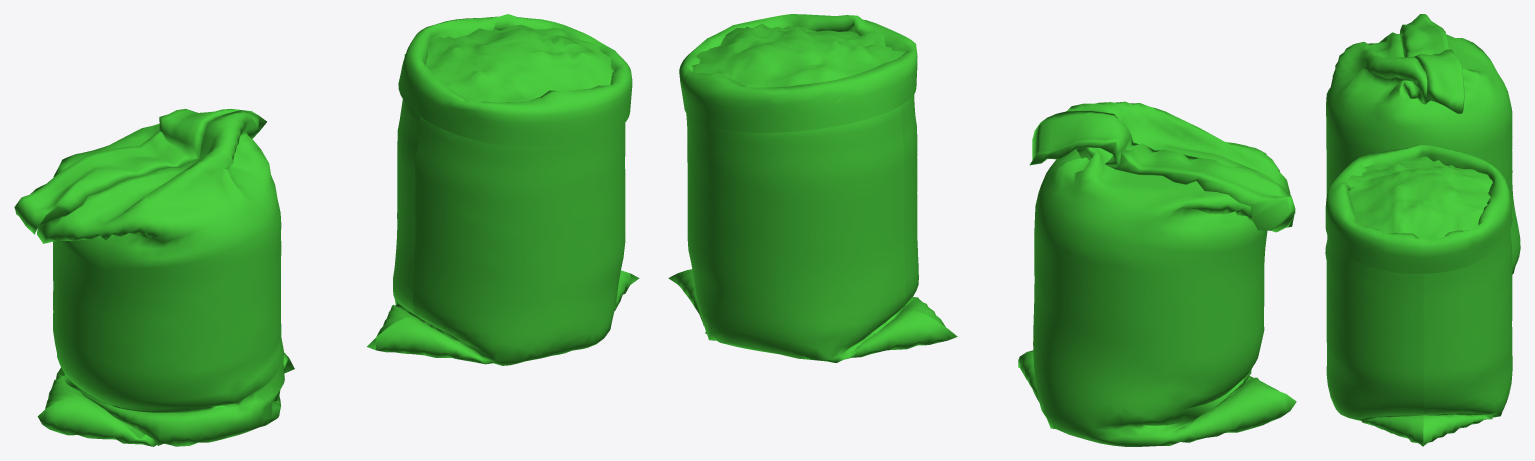
The model's file is coffe_bag.fbx.
3 renders of one model, left to right at view 1: azimuth 30°, elevation 25°; view 2: azimuth 150°, elevation 25°; view 3: azimuth 270°, elevation 25°, orthographic. The views are drawn at different scales.
Visible parts, largest first — view 1: Bag_2, Bag_1; view 2: Bag_2, Bag_1; view 3: Bag_2, Bag_1.
Boxes of the visible parts, x1,y1,x2,y2 form: Bag_2: [367, 14, 639, 365]; Bag_1: [14, 108, 294, 446]; Bag_2: [668, 14, 957, 362]; Bag_1: [1018, 101, 1296, 446]; Bag_2: [1325, 145, 1512, 446]; Bag_1: [1325, 14, 1520, 274].
Bounding box in the file's own units: 108 × 45.97 × 36.15.
